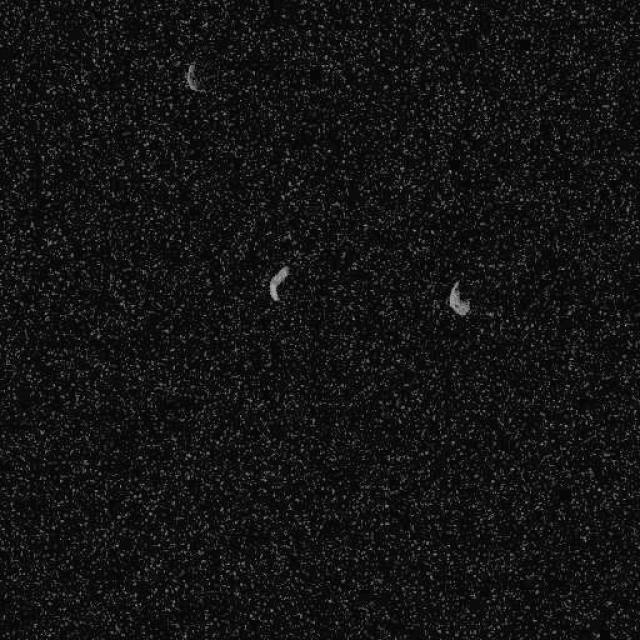D2: (446, 279, 472, 316), (266, 264, 290, 302), (184, 62, 202, 92)
